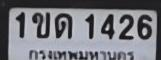1: (15, 11, 24, 37), (84, 13, 93, 38)
2: (118, 13, 133, 39)
4: (100, 13, 113, 38)
6: (136, 13, 151, 39)
A02: (31, 11, 49, 37)
A20: (54, 12, 71, 38)
BKK: (26, 48, 137, 60)
